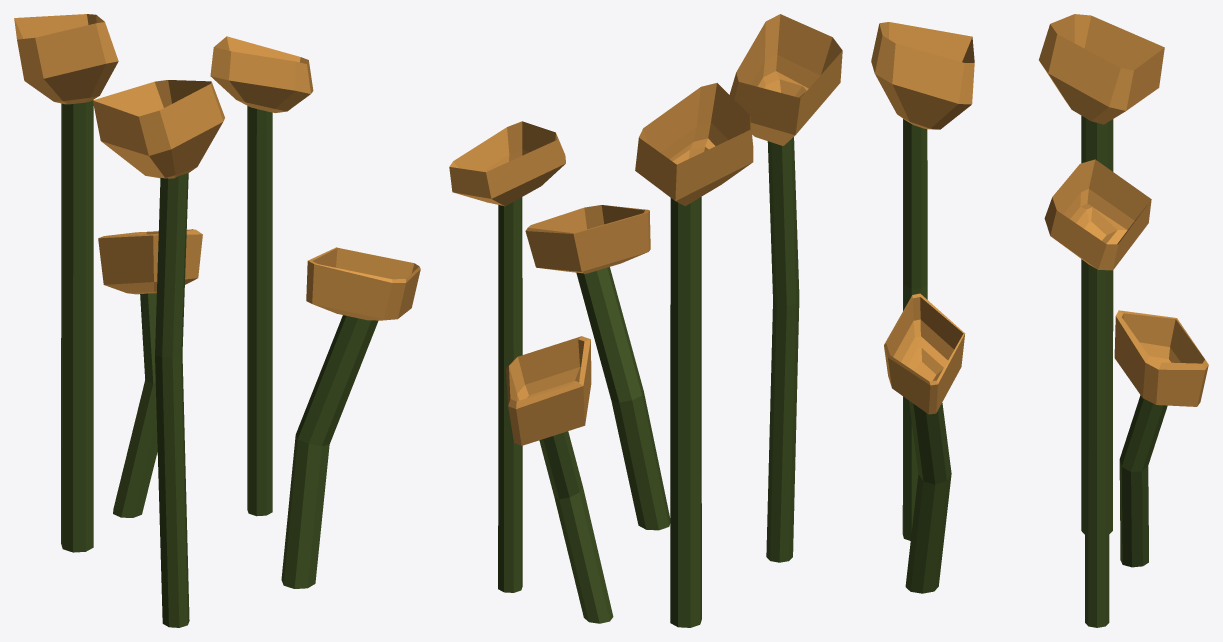
Rendered from Flower_5.fbx.
3 renders of one model, left to right at view 1: azimuth 30°, elevation 25°; view 2: azimuth 150°, elevation 25°; view 3: azimuth 270°, elevation 25°, orthographic. The views are drawn at different scales.
Visible parts, largest first — view 1: Flower_5; view 2: Flower_5; view 3: Flower_5.
Part boxes in pixels (bbox=[...]): Flower_5: bbox=[14, 14, 420, 627]; Flower_5: bbox=[449, 14, 842, 627]; Flower_5: bbox=[871, 14, 1208, 627].
Bounding box in the file's own units: 27.1 × 45.06 × 26.88.
